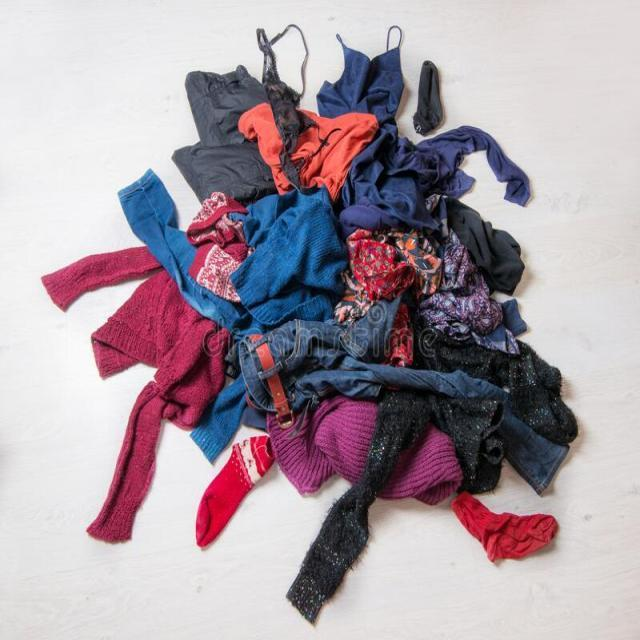clothes: (38, 239, 225, 547), (319, 25, 540, 226), (118, 176, 346, 325), (240, 298, 504, 403), (270, 408, 462, 511), (242, 93, 382, 203), (172, 66, 279, 200)
